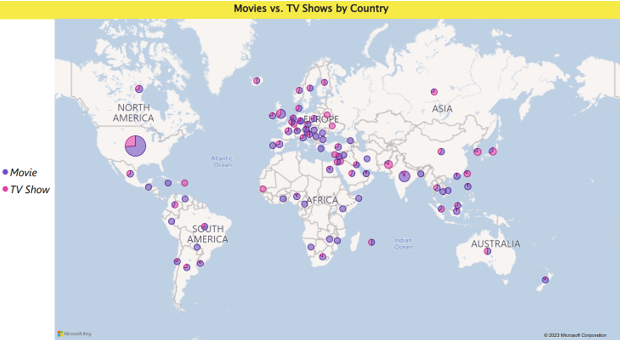

The page's visual inventory and layout, read from the dashboard file:
{"tool":"powerbi","page":{"name":"Page 1","canvas":[1280,720],"ordinal":0},"visuals":[{"type":"map","title":"Movies vs. TV Shows by Country","fields":{"Series":["Netflix Data.type"],"Size":["CountNonNull(Netflix Data.country)"],"Category":["Netflix Data.country"]},"box":[20,15,1178.4,646],"z":0}]}

Visuals, with their boxes in screenshot pixels (x1, y1, x2, y2), scaled from the page's 1280x720 canvas onto the 620x340 screenshot:
"Movies vs. TV Shows by Country" map: box=[10, 7, 580, 312]
